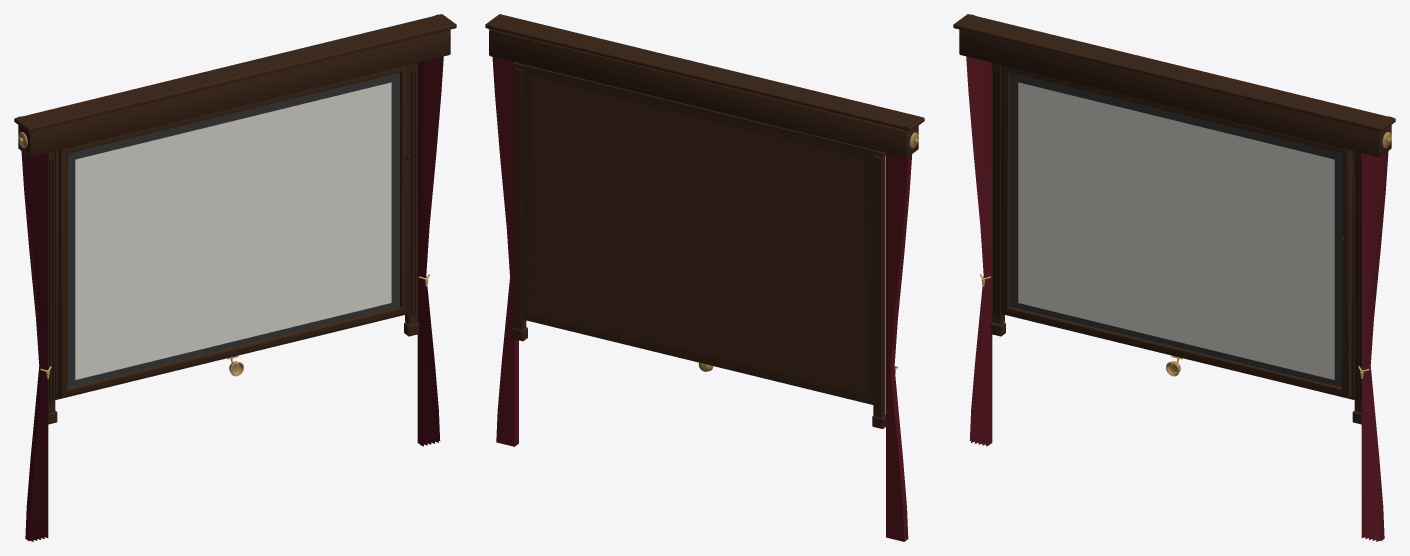
File: projection_screen.glb
The picture shows the model from 3 angles, left to right: view 1: azimuth 30°, elevation 25°; view 2: azimuth 150°, elevation 25°; view 3: azimuth 330°, elevation 25°; orthographic projection.
Parts seen in each view (by area): view 1: screen_surface, screen_frame; view 2: screen_frame; view 3: screen_surface, screen_frame.
Part boxes in pixels (box(x1,y1,x2,y2)): screen_surface: box(75, 82, 391, 379); screen_frame: box(14, 14, 456, 541); screen_frame: box(485, 14, 924, 541); screen_surface: box(1018, 82, 1334, 379); screen_frame: box(953, 14, 1395, 541).
Size of the model in its own units: 3.26 by 3.05 by 0.193.
